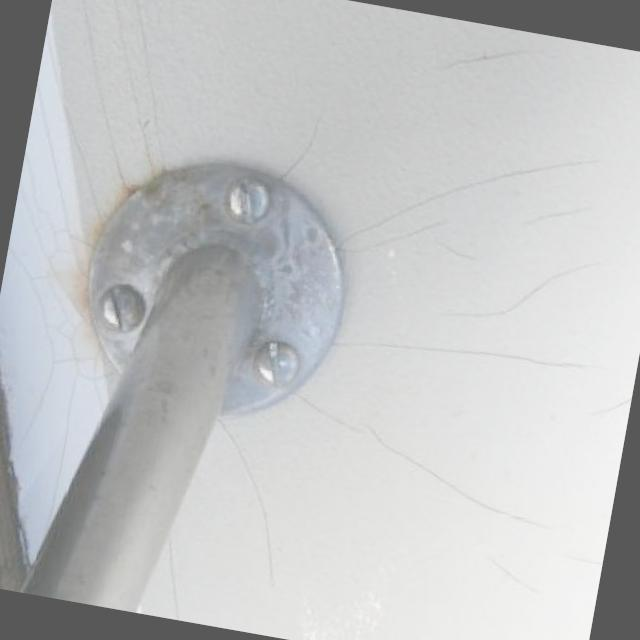crack: (336, 97, 604, 302), (320, 307, 600, 403), (334, 424, 580, 533), (427, 235, 603, 364), (420, 21, 540, 113), (262, 92, 355, 185), (506, 188, 587, 245), (463, 552, 543, 604), (432, 219, 488, 264)
